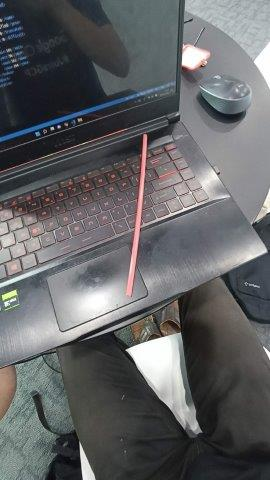sedotan: (127, 136, 147, 297)
